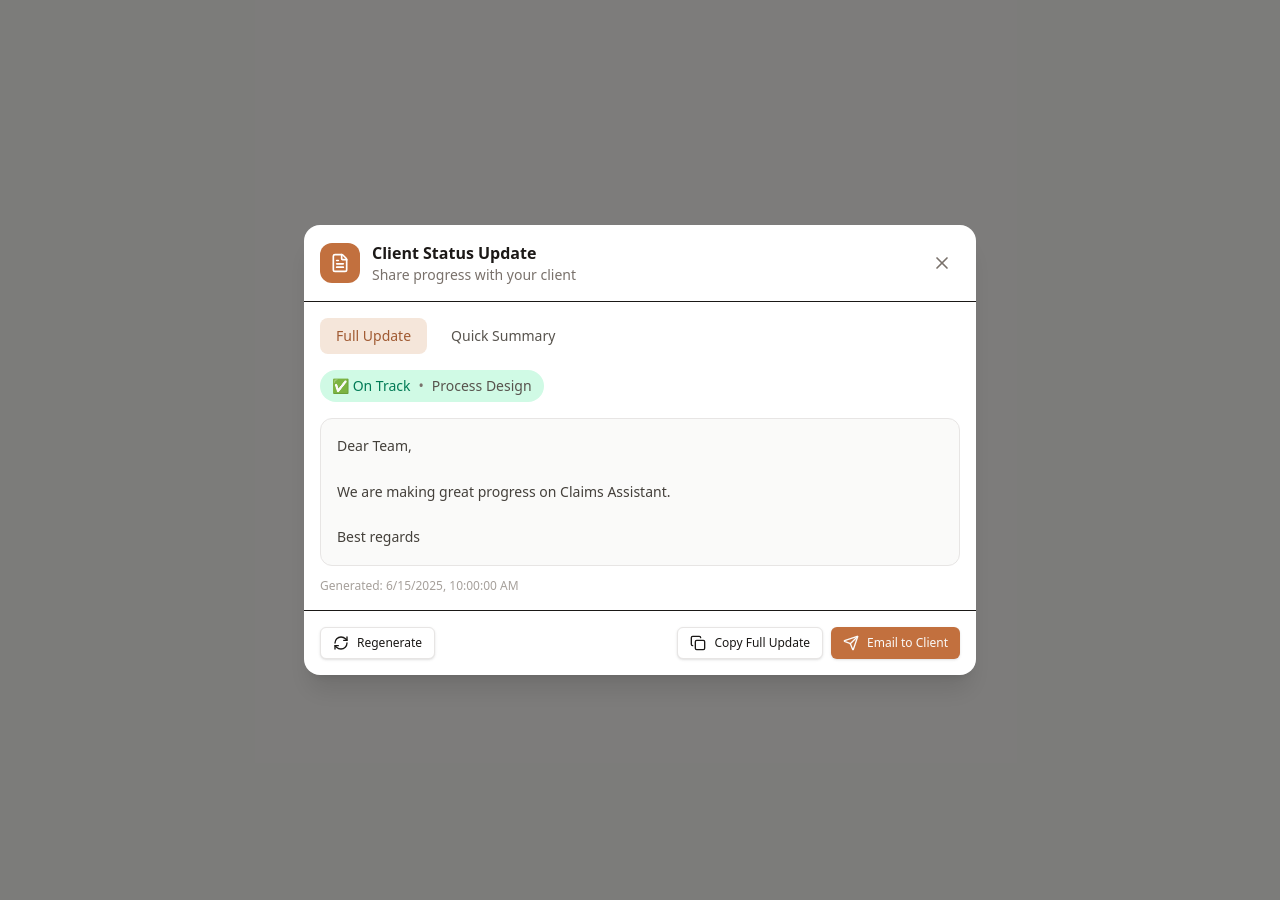
Test: StatusUpdateModal › shows copy button for summary on Quick Summary tab
Click the button "Quick Summary": (503, 336) 435,318 -> 571,354
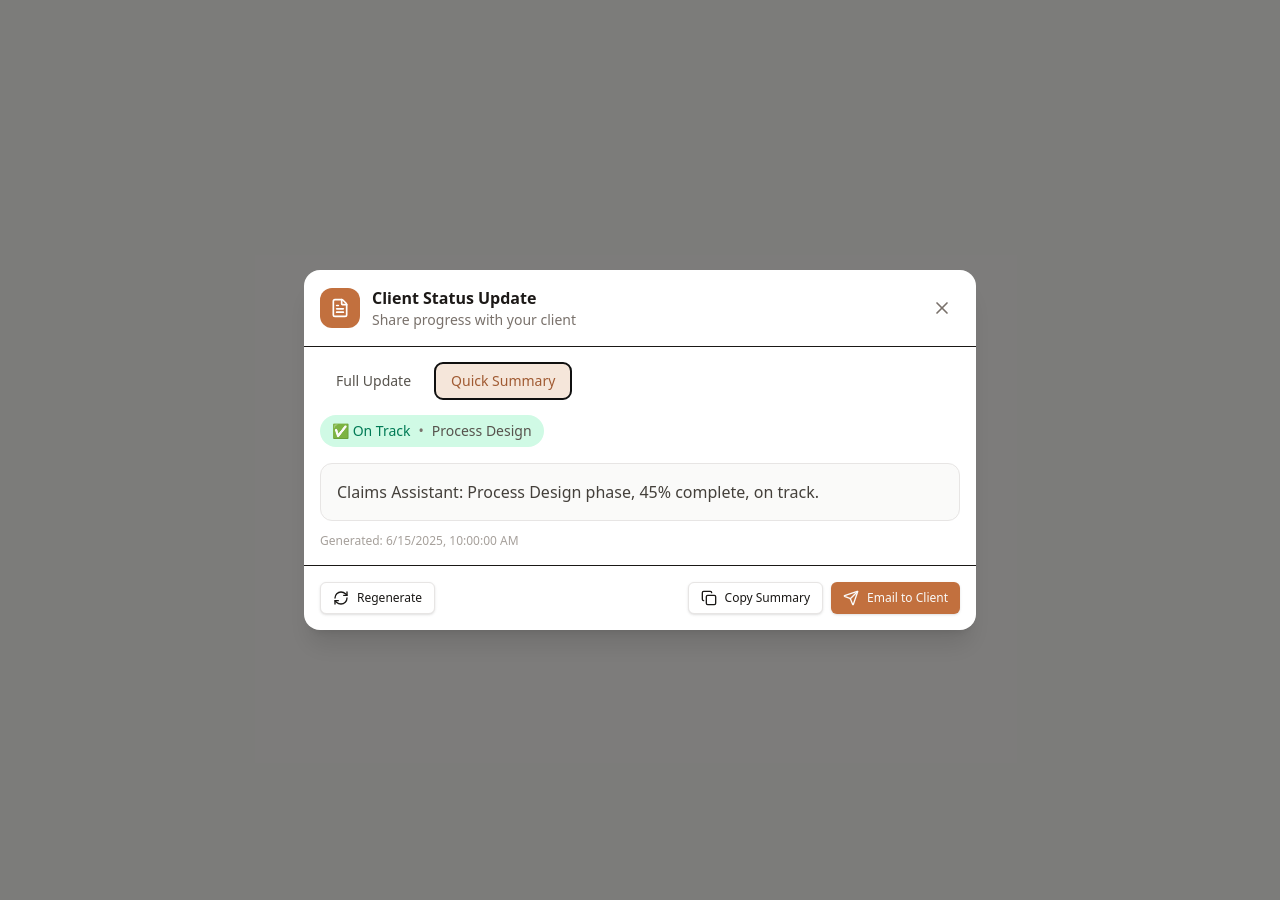
expect the button "Copy Summary" is shown: met
Click the button "Copy Summary": (755, 598) 688,582 -> 823,614
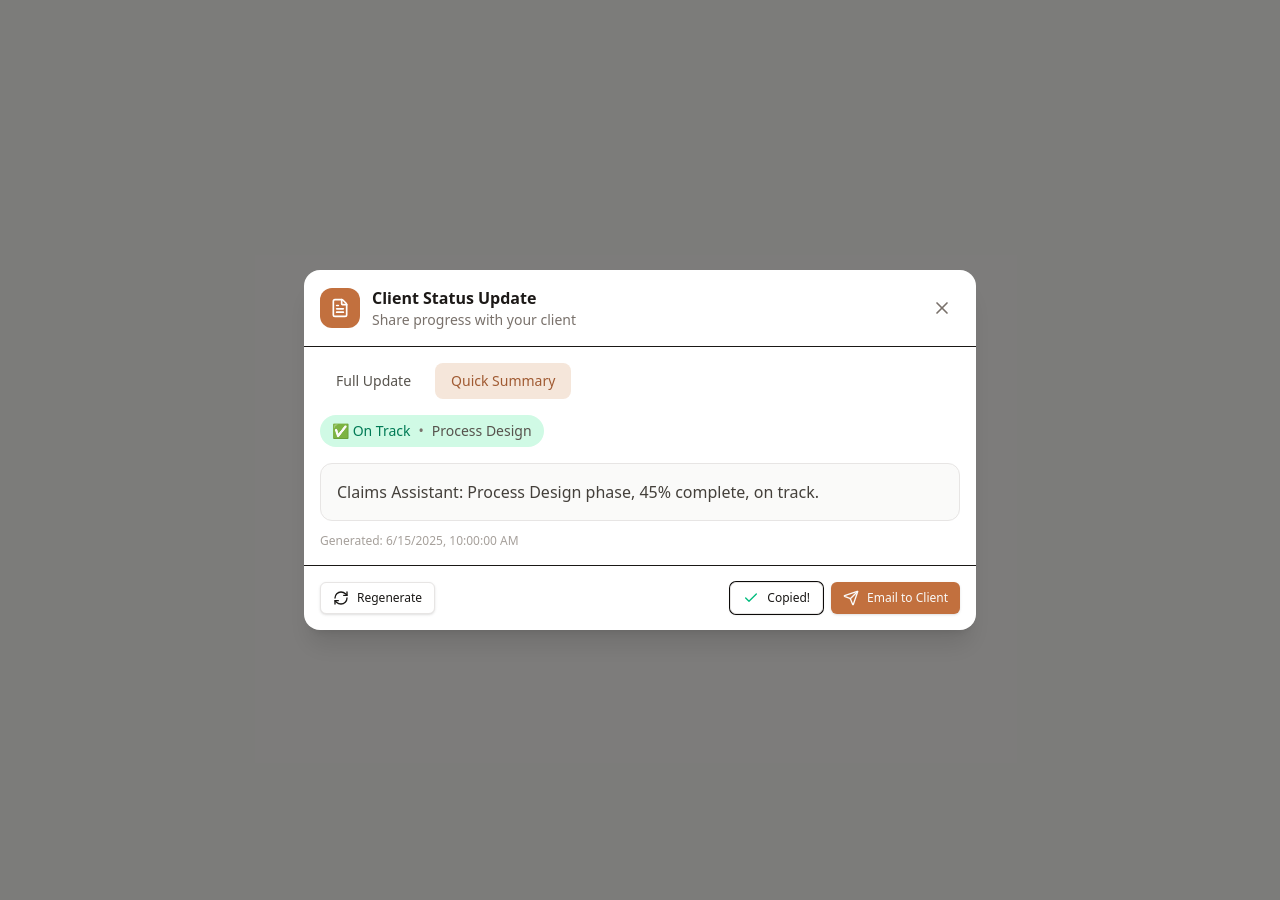
expect the button "Copied!" is shown: met, box 730,582 -> 823,614
